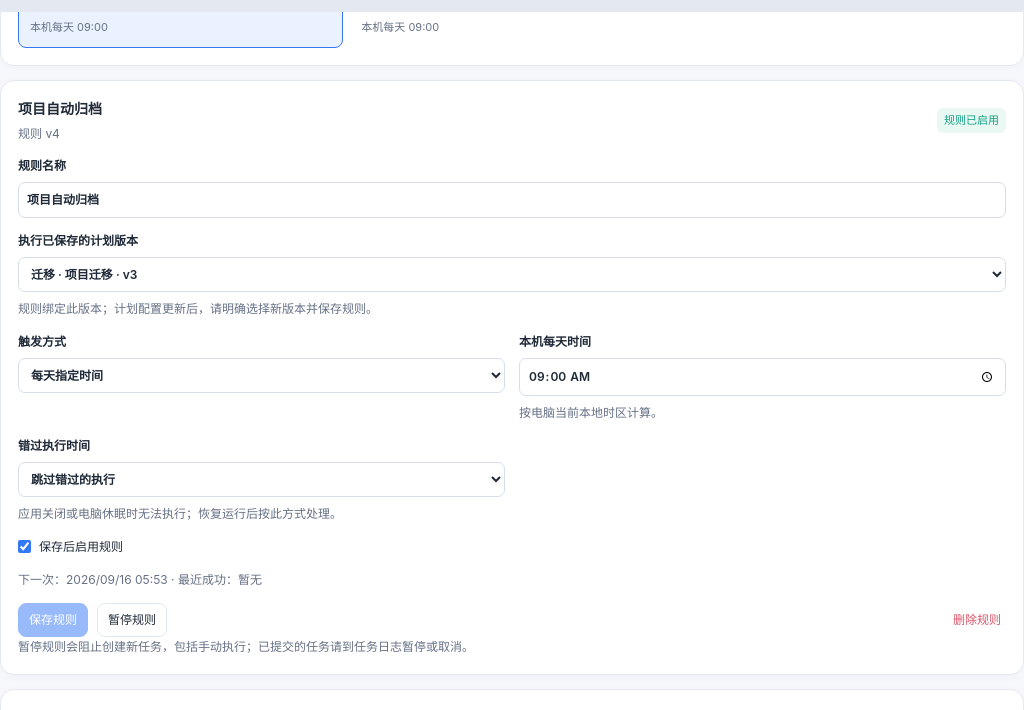
Test case: preserves the draft after a version conflict until an explicit reload
(page scrolled)
Step 1. Replace the text in the field named "规则名称" with "我的草稿" → coordinates (512, 200), box x1=18 y1=182 x2=1006 y2=218
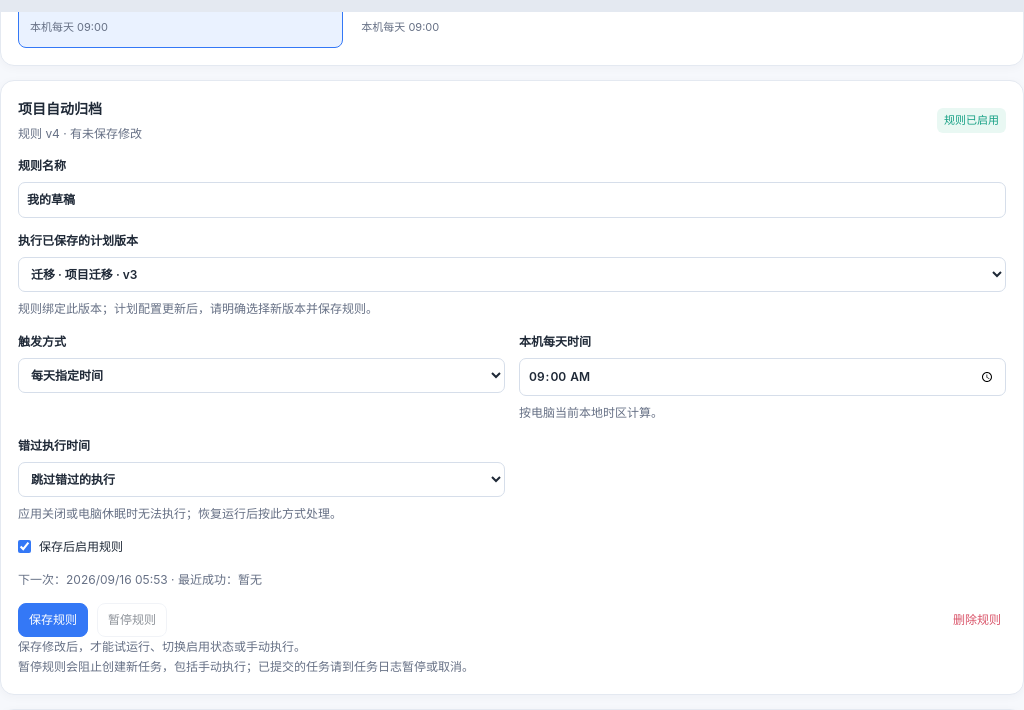
Step 2. Submit the form
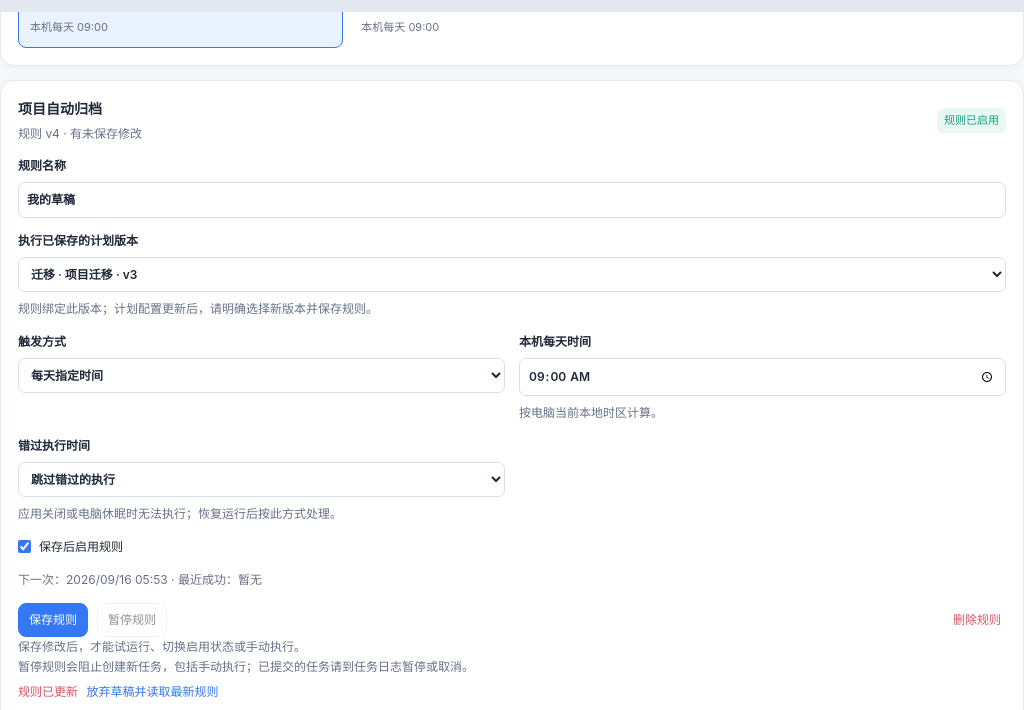
Step 3. Click the button "放弃草稿并读取最新规则" → coordinates (152, 692), box x1=81 y1=677 x2=223 y2=708
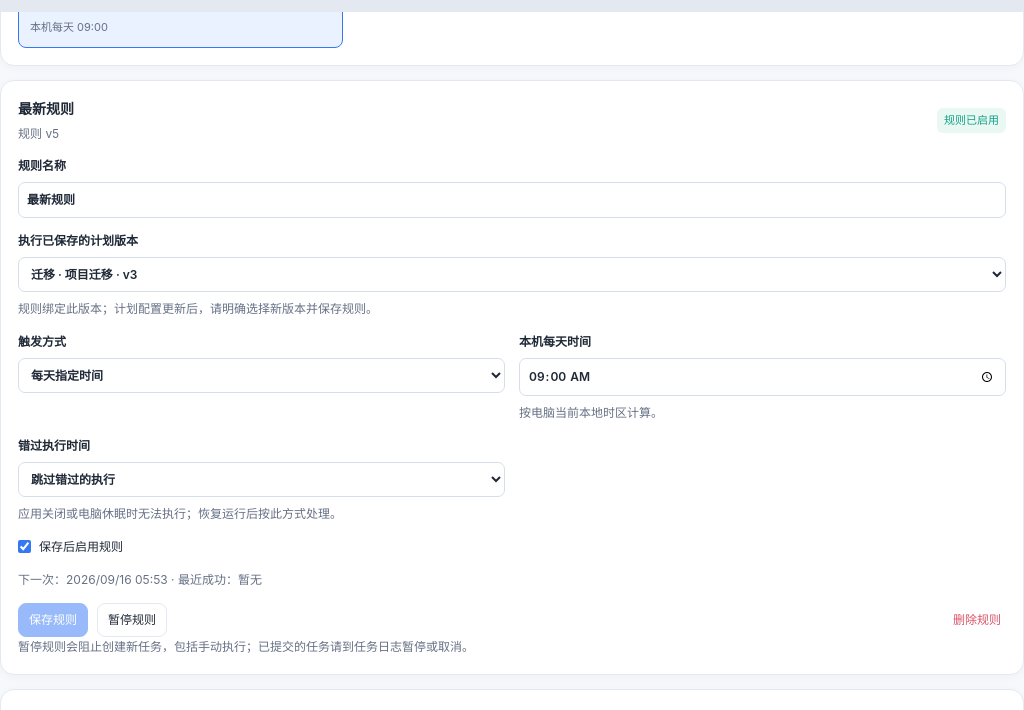
expect the field named "规则名称" holds "最新规则": met, box x1=18 y1=182 x2=1006 y2=218
